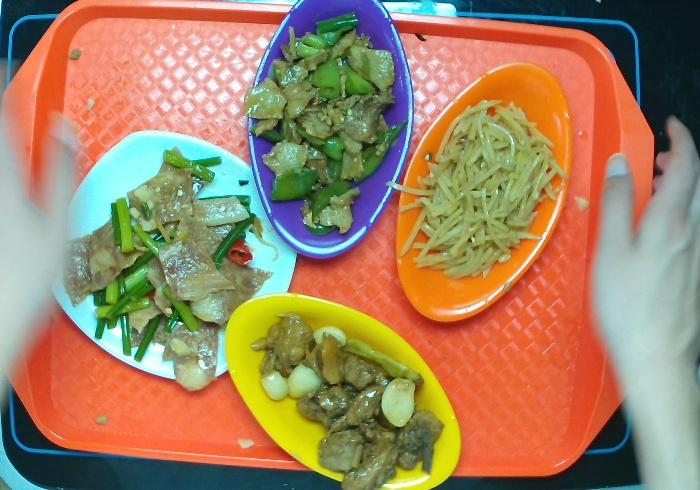RJxy-Fen_Hong_Tuo_Yuan: (246, 1, 416, 260)
RJxy-Huang_Se_Tuo_Yuan: (223, 291, 463, 490)
RJxy-Ju_Huang_Tuo_Yuan: (394, 58, 575, 323)
RJxy-Si_Fang_Die: (50, 127, 299, 381)
